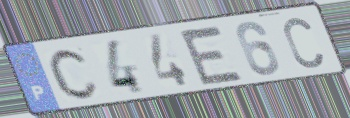4: (149, 31, 192, 89), (104, 38, 147, 96)
6: (234, 20, 281, 77)
C: (47, 46, 102, 101), (281, 15, 326, 71)
E: (175, 24, 247, 87)
